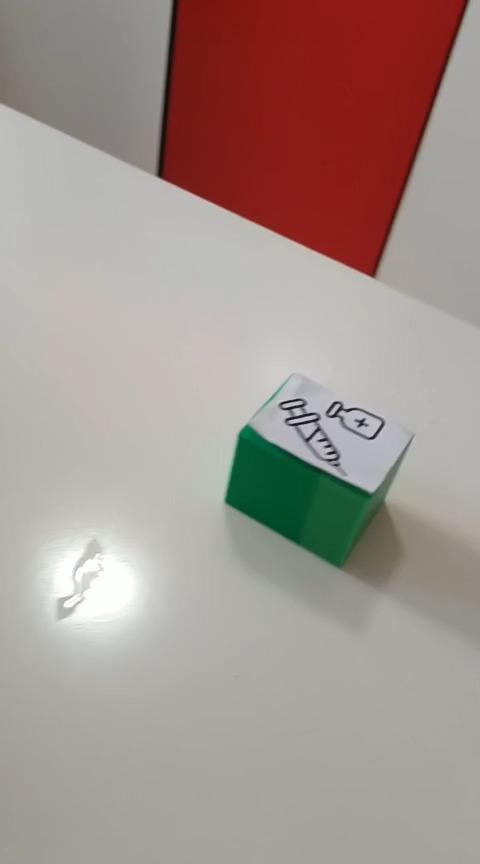antiseptic cream: (222, 370, 415, 569)
